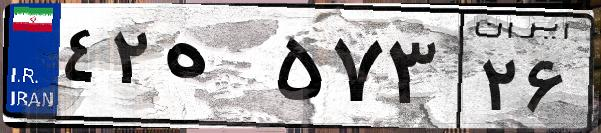2: (475, 38, 525, 113), (110, 28, 158, 98)
3: (385, 28, 445, 110)
4: (57, 26, 110, 100)
5: (270, 28, 330, 110)
6: (525, 38, 570, 115)
7: (330, 28, 385, 110)
ه: (158, 20, 270, 120)
